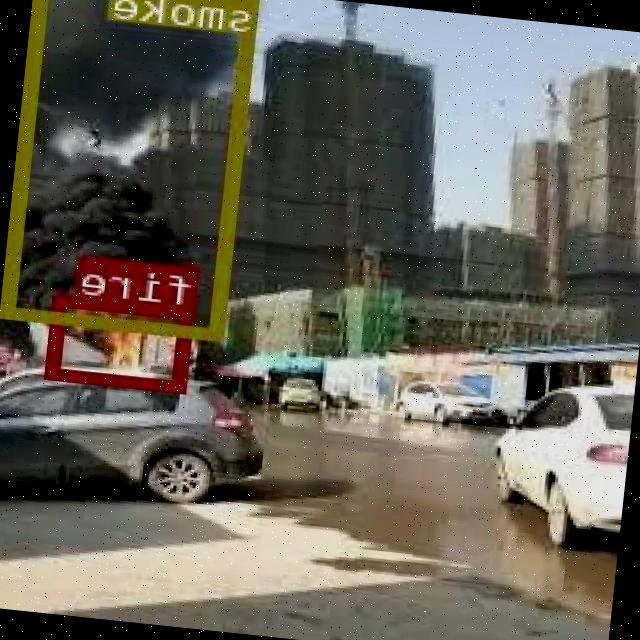fire: (48, 293, 197, 390)
smoke: (5, 0, 262, 337)
